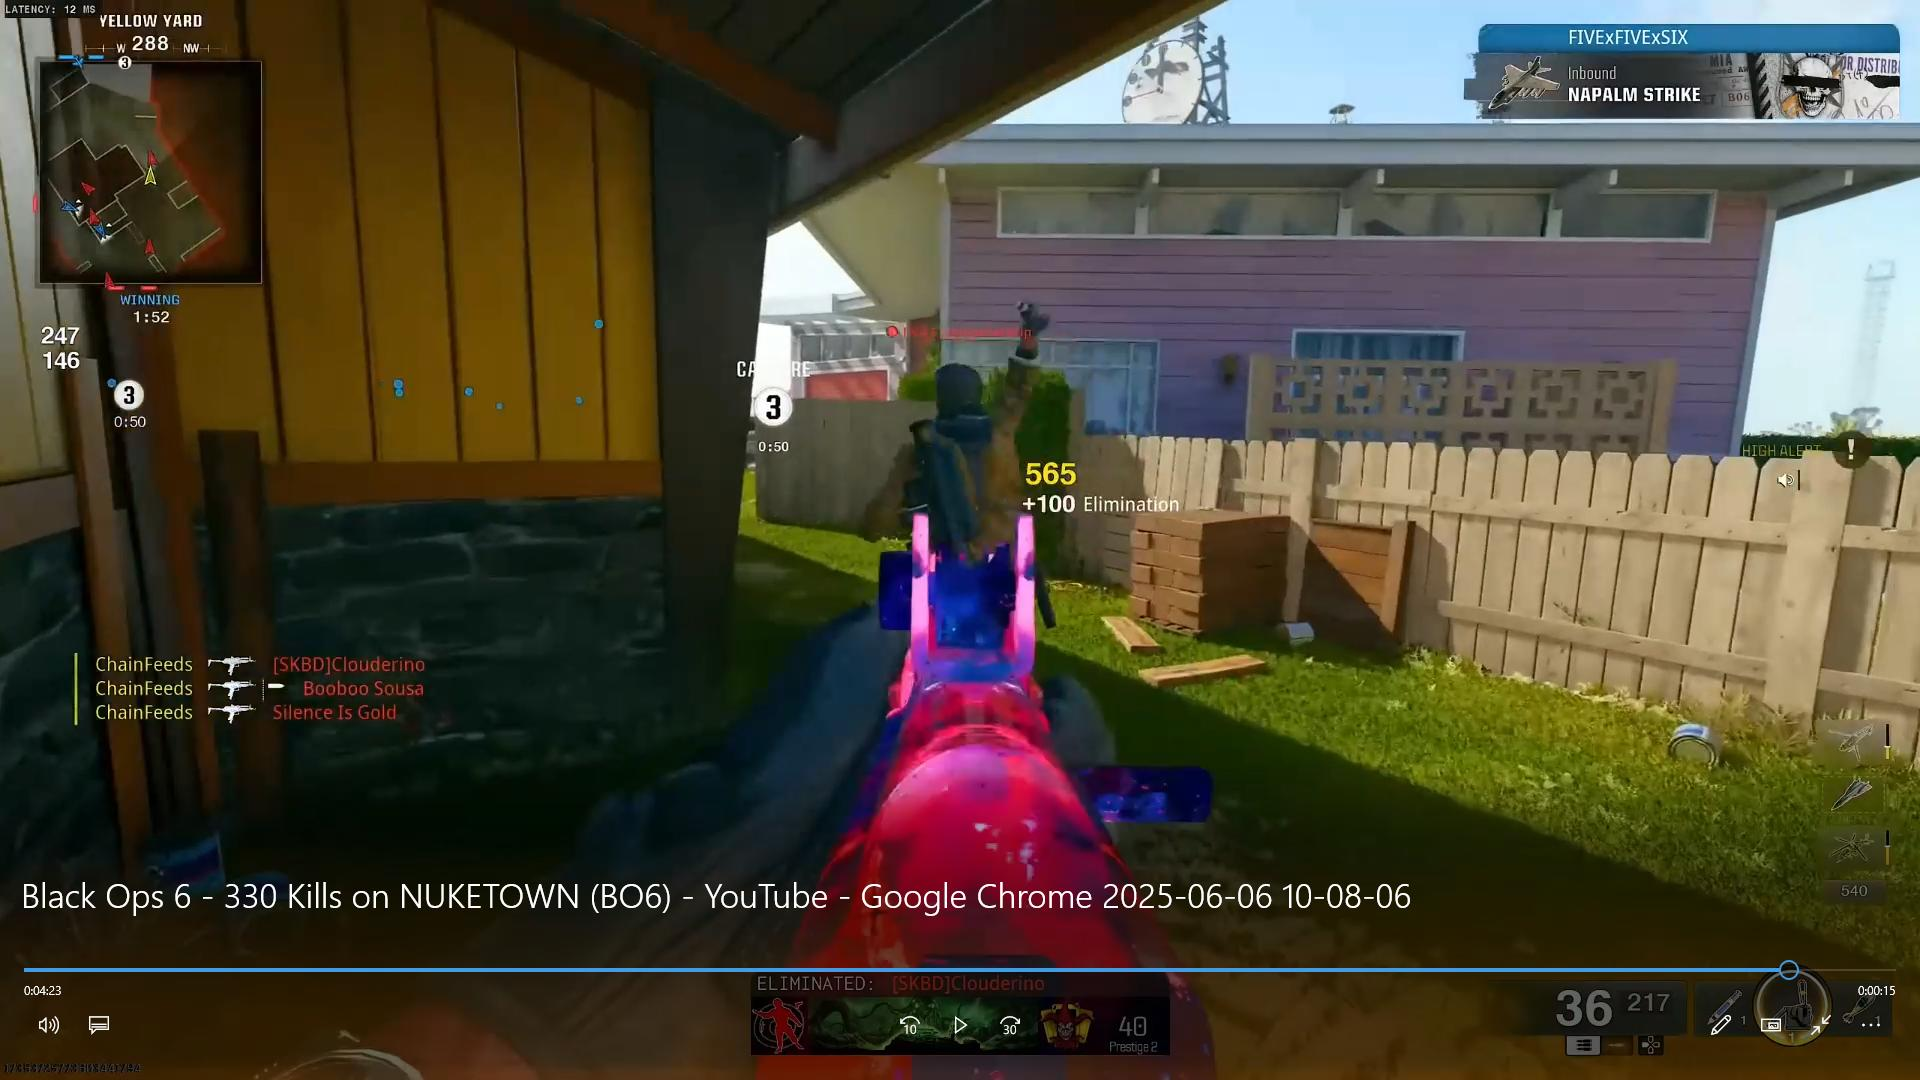Enemy: (885, 343, 1059, 560)
